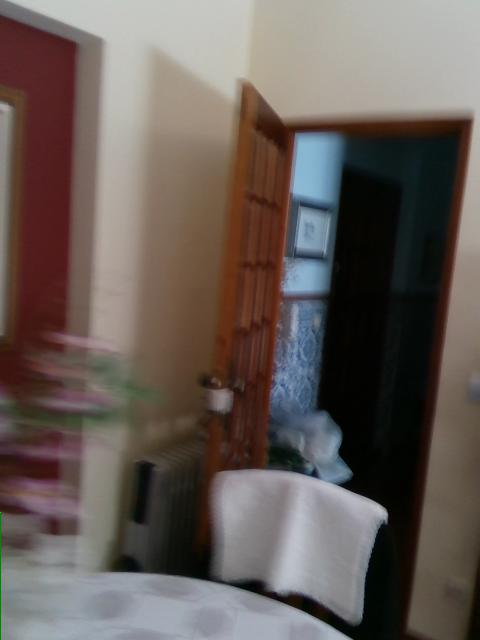door: (198, 76, 294, 624)
